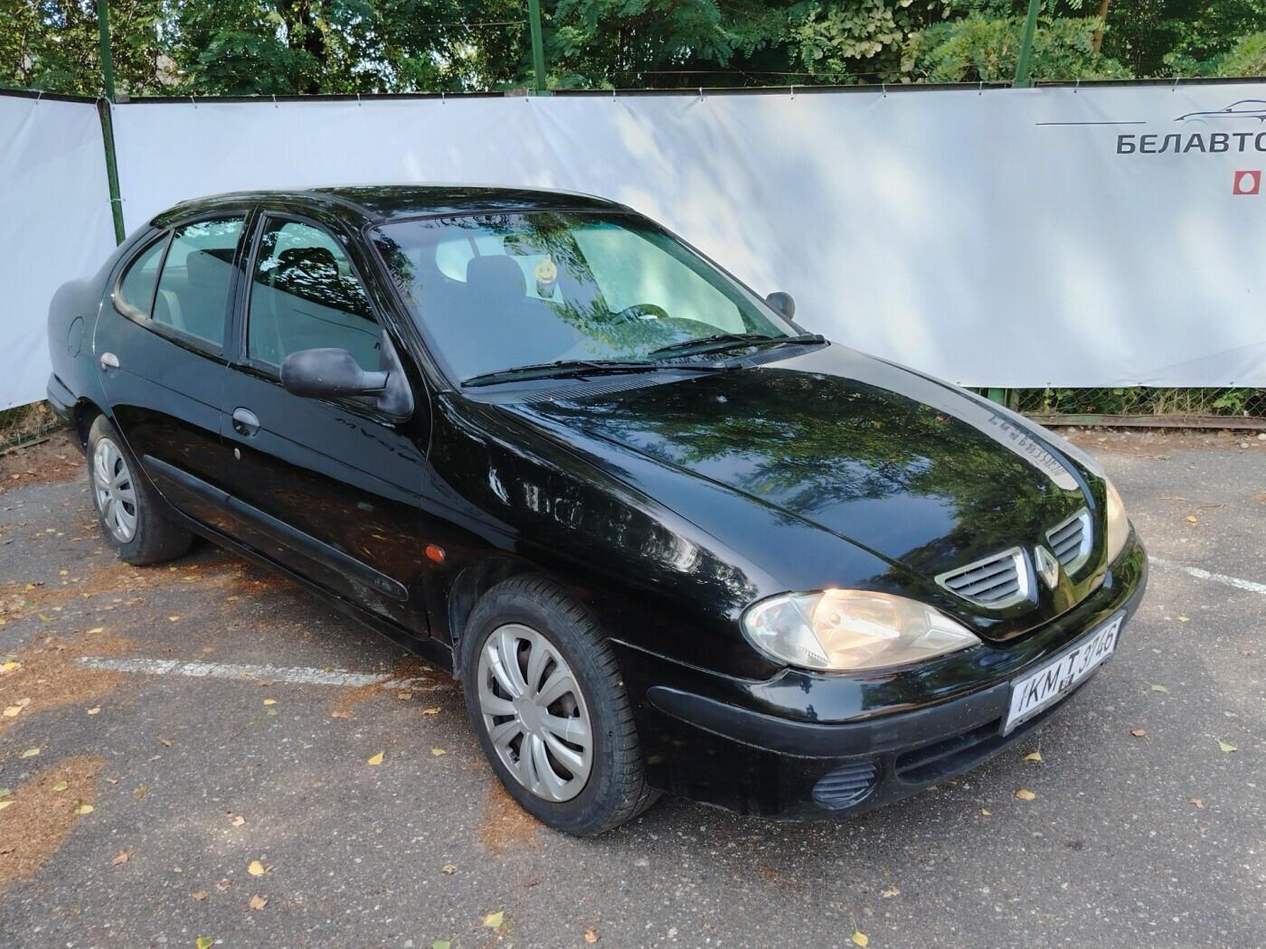Megane_1999-2003: (36, 185, 1152, 839)
